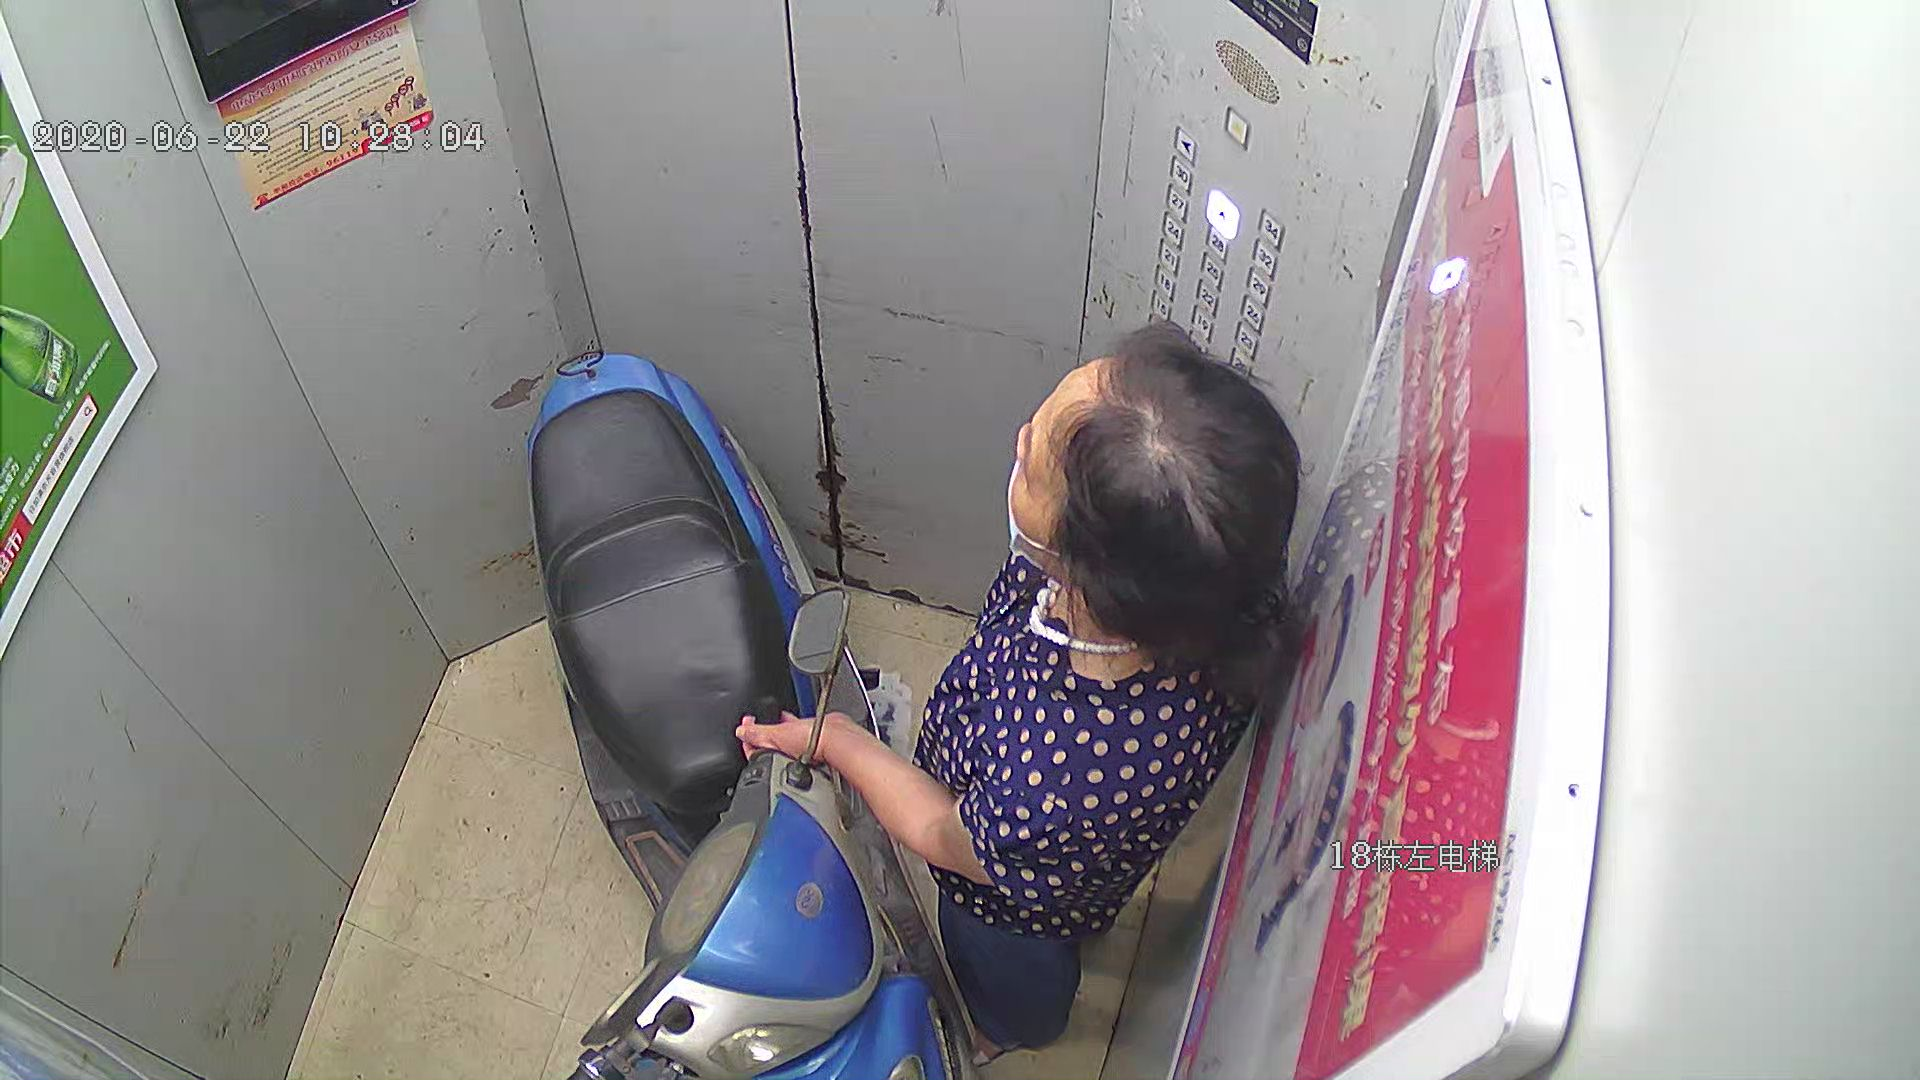Electric-bicycle: (451, 356, 968, 1071)
